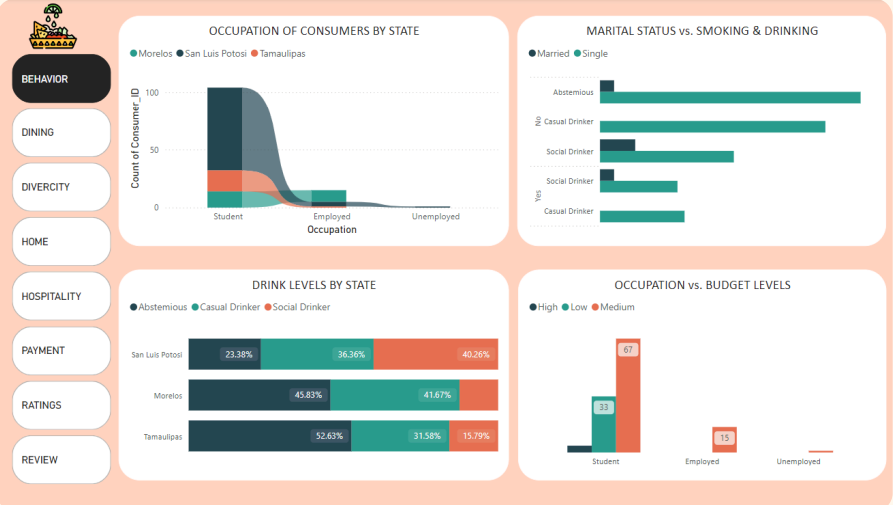

Layout of this report page (visuals, bound fields, positions):
{"tool":"powerbi","page":{"name":"BEHAVIOR","canvas":[1280,720],"ordinal":3},"visuals":[{"type":"ribbonChart","title":"OCCUPATION OF CONSUMERS BY STATE","fields":{"Category":["consumers.Occupation"],"Series":["consumers.State"],"Y":["CountNonNull(consumers.Consumer_ID)"]},"box":[177.5,23.8,552.5,326.2],"z":0},{"type":"clusteredBarChart","title":"MARITAL STATUS vs. SMOKING & DRINKING","fields":{"Category":["consumers.Smoker","consumers.Drink_Level"],"Y":["CountNonNull(consumers.Consumer_ID)"],"Series":["consumers.Marital_Status"]},"box":[742.5,23.8,522.5,326.2],"z":1000},{"type":"hundredPercentStackedBarChart","title":"DRINK LEVELS BY STATE","fields":{"Y":["CountNonNull(consumers.Consumer_ID)"],"Series":["consumers.Drink_Level"],"Category":["consumers.State"]},"box":[177.5,383.8,552.5,297.5],"z":2000},{"type":"lineClusteredColumnComboChart","title":"OCCUPATION vs. BUDGET LEVELS","fields":{"Category":["consumers.Occupation"],"Y":["CountNonNull(consumers.Consumer_ID)"],"Series":["consumers.Budget"]},"box":[743.8,383.8,521.2,297.5],"z":3000},{"type":"image","box":[21.2,0,125,77.5],"z":4000},{"type":"advancedSlicerVisual","fields":{"Values":["Table.pages"]},"box":[21.2,73.8,150,620],"z":5000}]}

Visuals, with their boxes on the page's 1280x720 design canvas (x1, y1, x2, y2). These are canvas units, not pixel positions in the 893x505 screenshot, which may show the page scaled, cropped or inside an application window:
"OCCUPATION OF CONSUMERS BY STATE" ribbonChart: <region>178, 24, 730, 350</region>
"MARITAL STATUS vs. SMOKING & DRINKING" clusteredBarChart: <region>742, 24, 1265, 350</region>
"DRINK LEVELS BY STATE" hundredPercentStackedBarChart: <region>178, 384, 730, 681</region>
"OCCUPATION vs. BUDGET LEVELS" lineClusteredColumnComboChart: <region>744, 384, 1265, 681</region>
image: <region>21, 0, 146, 78</region>
advancedSlicerVisual - Table.pages: <region>21, 74, 171, 694</region>
